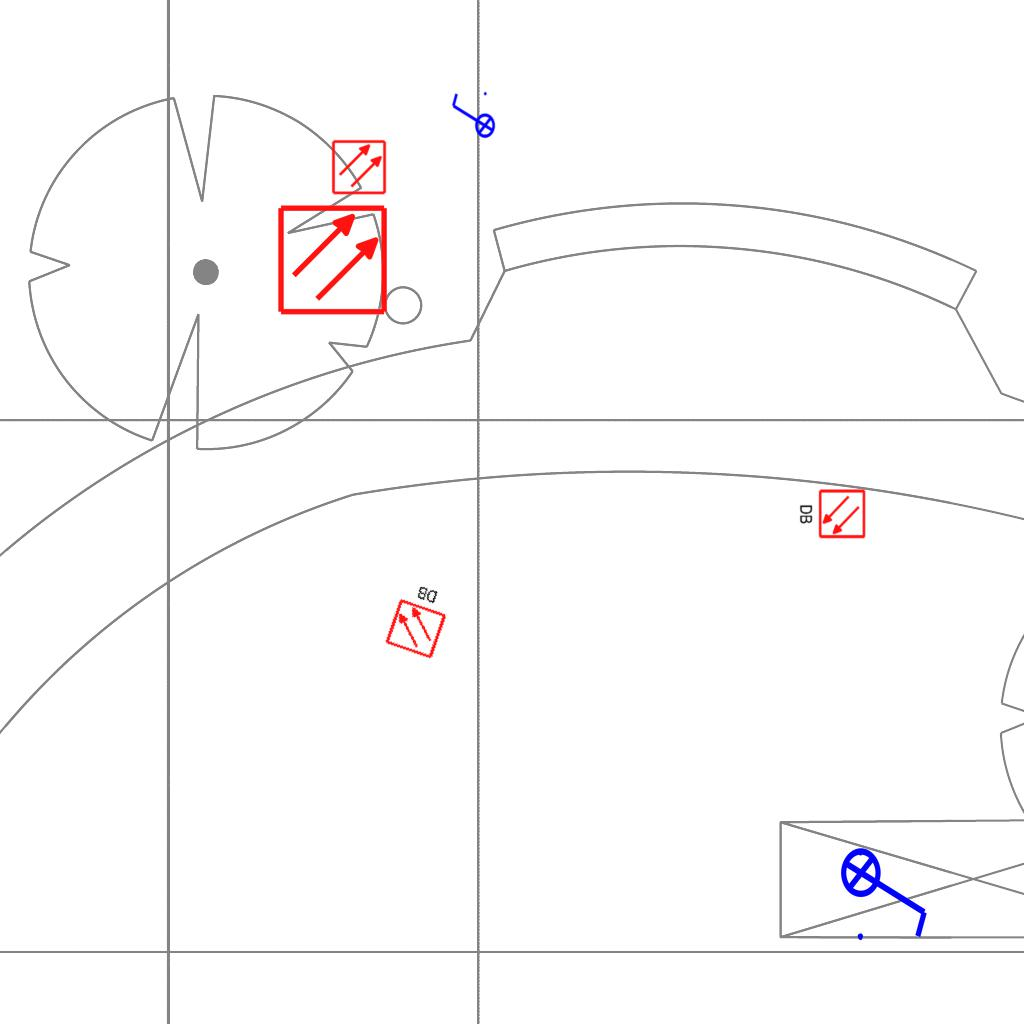Ausschalter_beleuchtet: (839, 834, 935, 946), (448, 89, 496, 145)
DB_Melder_in_Doppelboden_mit_Revisionsoeffnung_mind_40_x_40_cm: (379, 574, 458, 664), (795, 486, 869, 543)
RMO_Rauchmelder_optischer: (276, 203, 389, 316), (331, 139, 387, 195)
